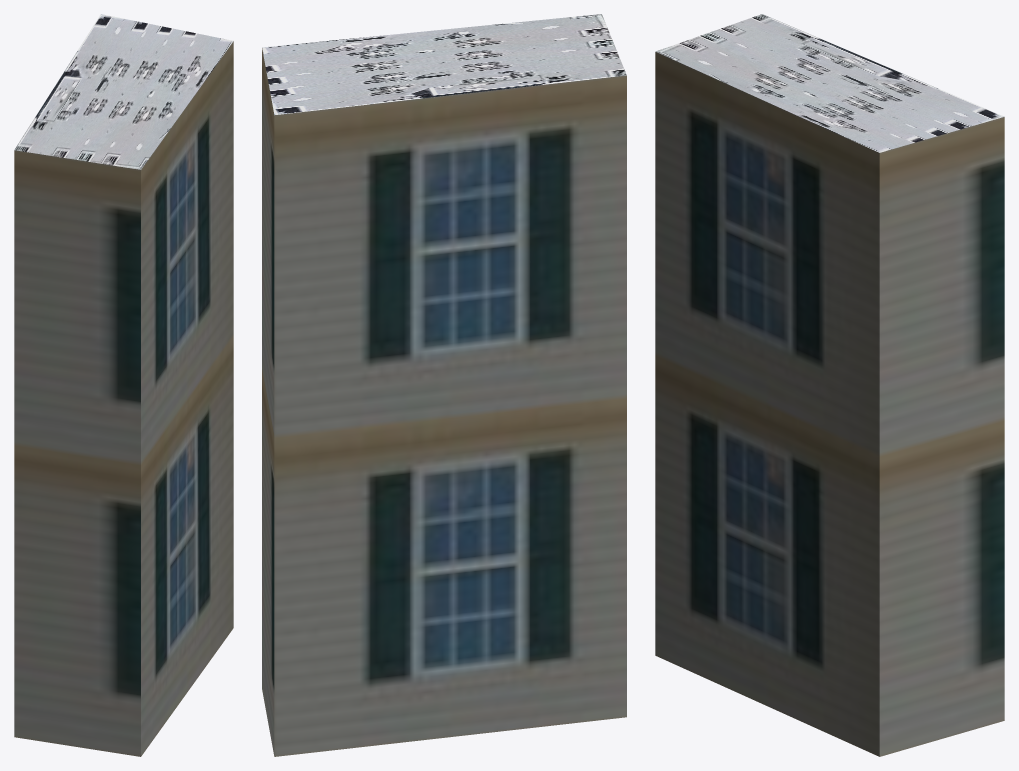
Rendered from ResTex__1522.fbx.
3 views of the same model, side by side, from view 1: azimuth 30°, elevation 25°; view 2: azimuth 150°, elevation 25°; view 3: azimuth 270°, elevation 25° (orthographic). The views are drawn at different scales.
Visible parts, largest first — view 1: CityEngineMaterial_7_m, CityEngineMaterial_15_m; view 2: CityEngineMaterial_7_m, CityEngineMaterial_15_m; view 3: CityEngineMaterial_7_m, CityEngineMaterial_15_m.
Boxes of the visible parts, x1=… form: CityEngineMaterial_7_m: x1=14, y1=41, x2=233, y2=756; CityEngineMaterial_15_m: x1=14, y1=14, x2=233, y2=169; CityEngineMaterial_7_m: x1=262, y1=48, x2=626, y2=756; CityEngineMaterial_15_m: x1=262, y1=14, x2=626, y2=115; CityEngineMaterial_7_m: x1=655, y1=52, x2=1004, y2=756; CityEngineMaterial_15_m: x1=655, y1=14, x2=1003, y2=152.
Bounding box in the file's own units: 2.96 × 6 × 3.15.
2 materials, 2 textured.
